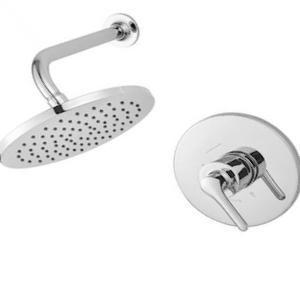Ducha: (0, 8, 299, 225)
